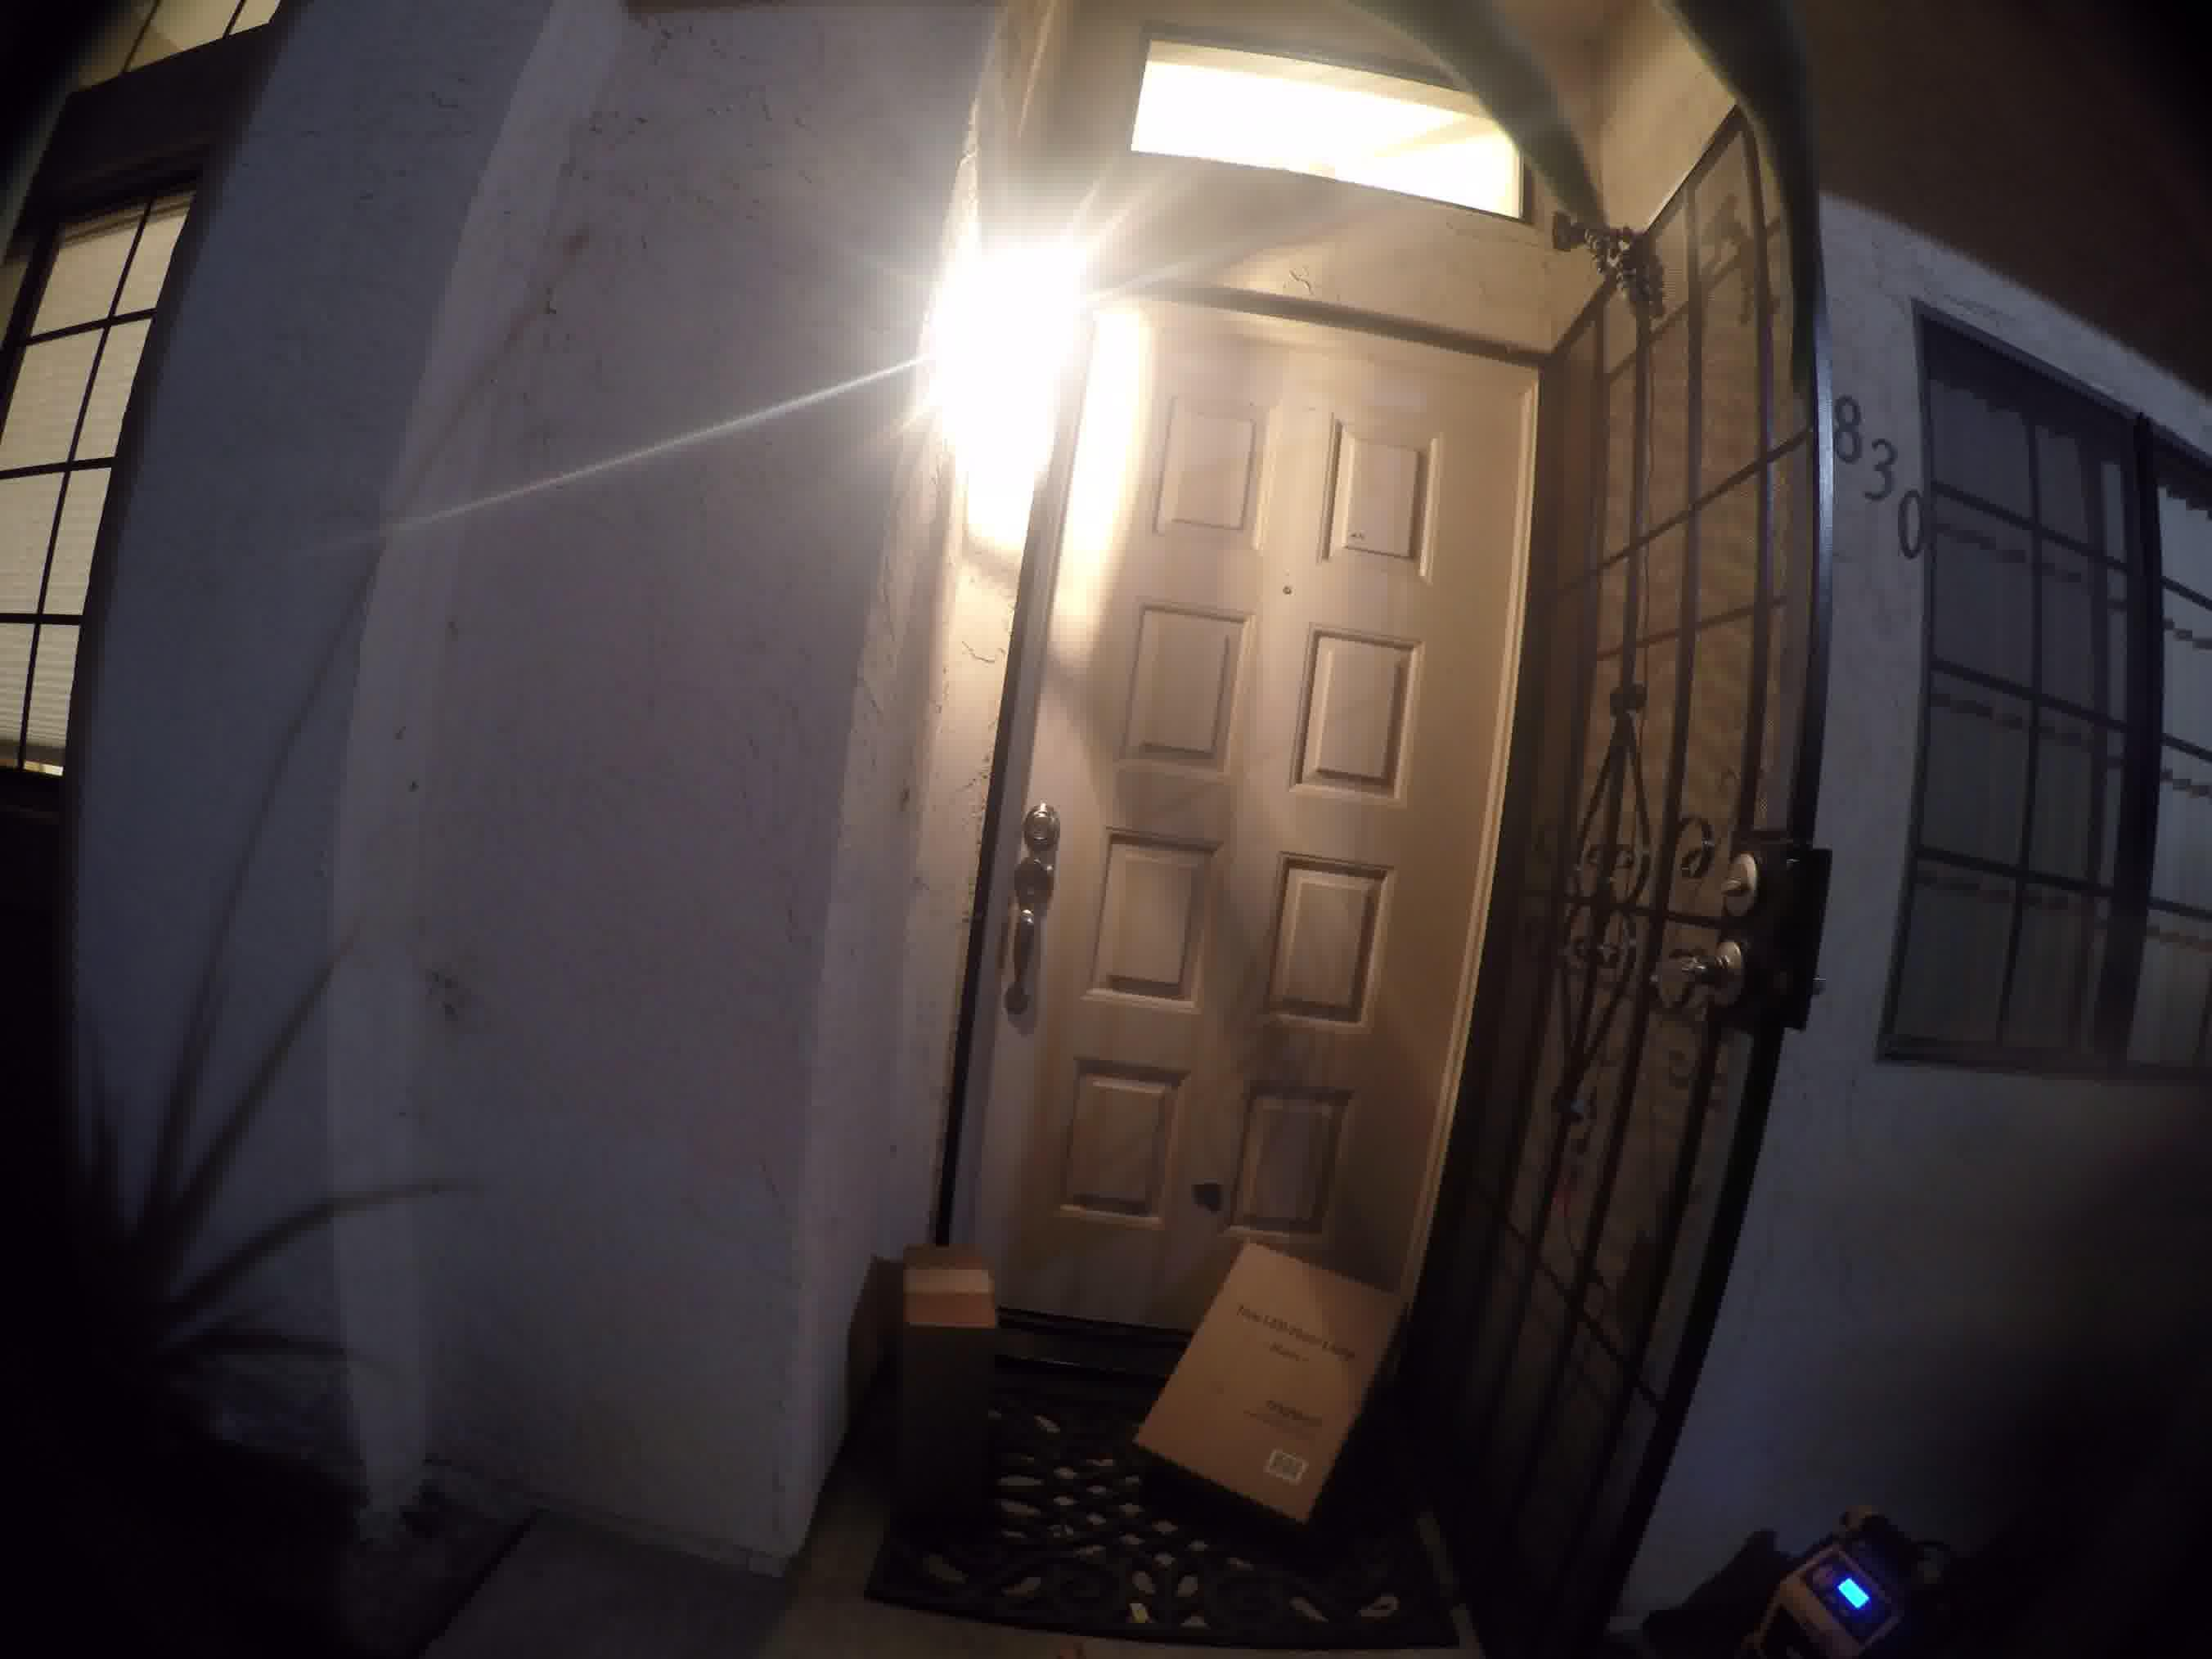box: (1132, 1215, 1407, 1539), (834, 1230, 1031, 1504)
